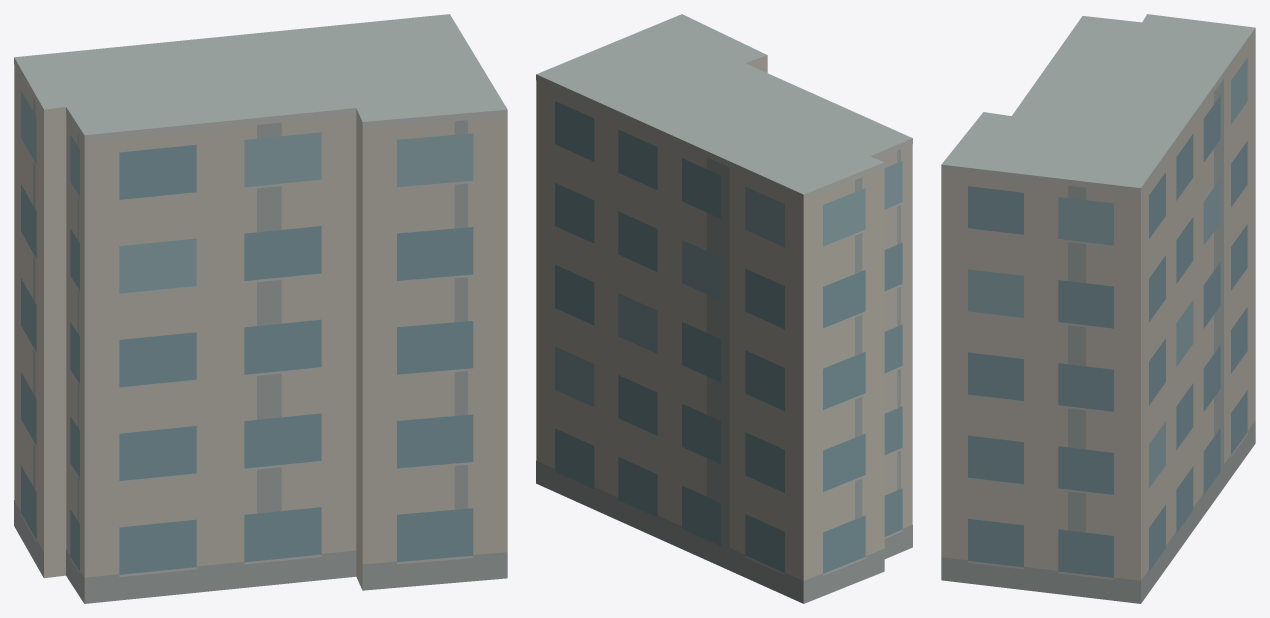
Rendered from survey-upis-32824954.glb.
3 views of the same model, side by side, from view 1: azimuth 30°, elevation 25°; view 2: azimuth 150°, elevation 25°; view 3: azimuth 270°, elevation 25° (orthographic). The views are drawn at different scales.
Visible parts, largest first — view 1: survey-upis-32824954.tmp; view 2: survey-upis-32824954.tmp; view 3: survey-upis-32824954.tmp.
Boxes of the visible parts, x1,y1,x2,y2 form: survey-upis-32824954.tmp: (14, 14, 507, 603); survey-upis-32824954.tmp: (536, 14, 912, 603); survey-upis-32824954.tmp: (941, 14, 1255, 603).
Bounding box in the file's own units: 14.56 × 16.2 × 11.11.
